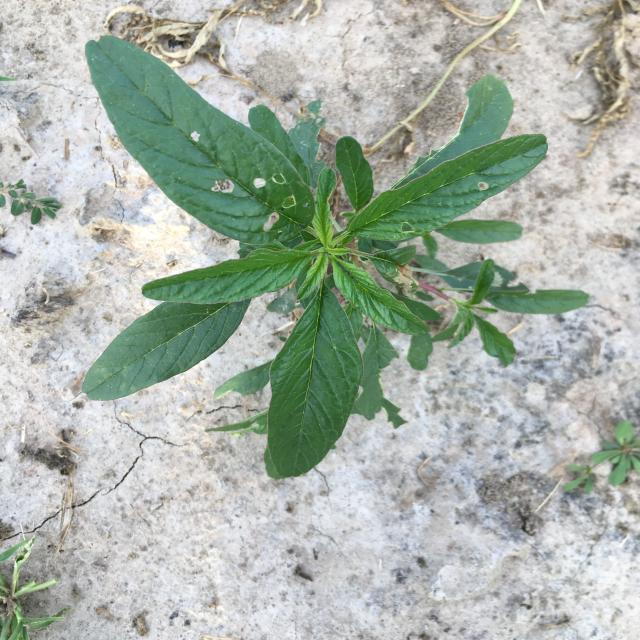Carpetweed: (562, 420, 640, 494)
SpottedSpurge: (0, 179, 61, 225)
Waterhemp: (81, 35, 590, 480)
